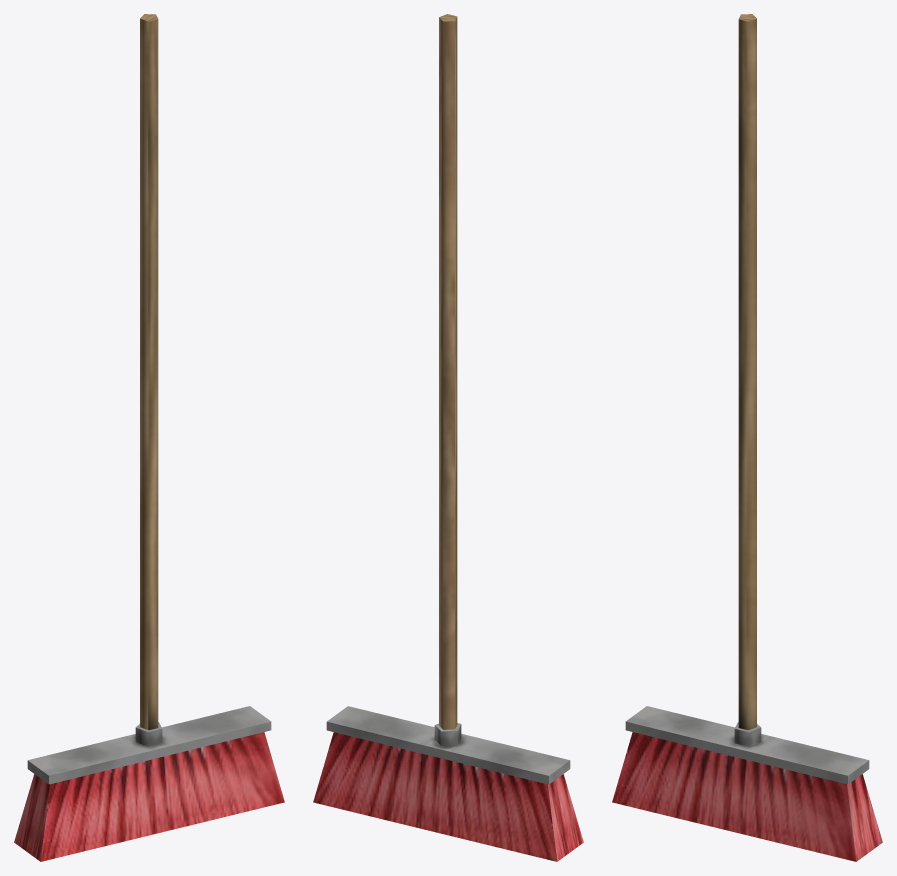
The model's file is Broom_01-col.glb.
The picture shows the model from 3 angles, left to right: view 1: azimuth 30°, elevation 25°; view 2: azimuth 150°, elevation 25°; view 3: azimuth 330°, elevation 25°; orthographic projection.
Visible parts, largest first — view 1: Broom_01-col; view 2: Broom_01-col; view 3: Broom_01-col.
Part boxes in pixels (x1,y1,x2,y2): Broom_01-col: (14, 14, 284, 861); Broom_01-col: (313, 14, 583, 861); Broom_01-col: (612, 14, 882, 861).
Bounding box in the file's own units: 0.4466 × 1.41 × 0.0844.
1 material, 1 textured.
